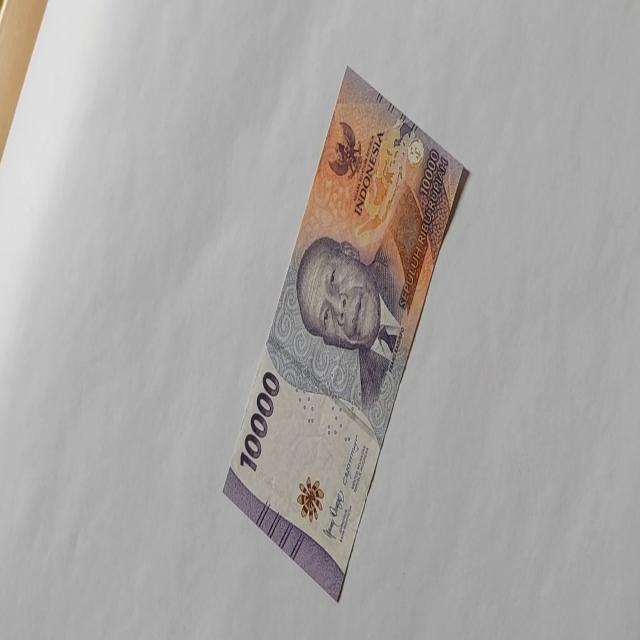sepuluh ribu rupiah: (221, 63, 470, 602), (294, 233, 406, 408)
